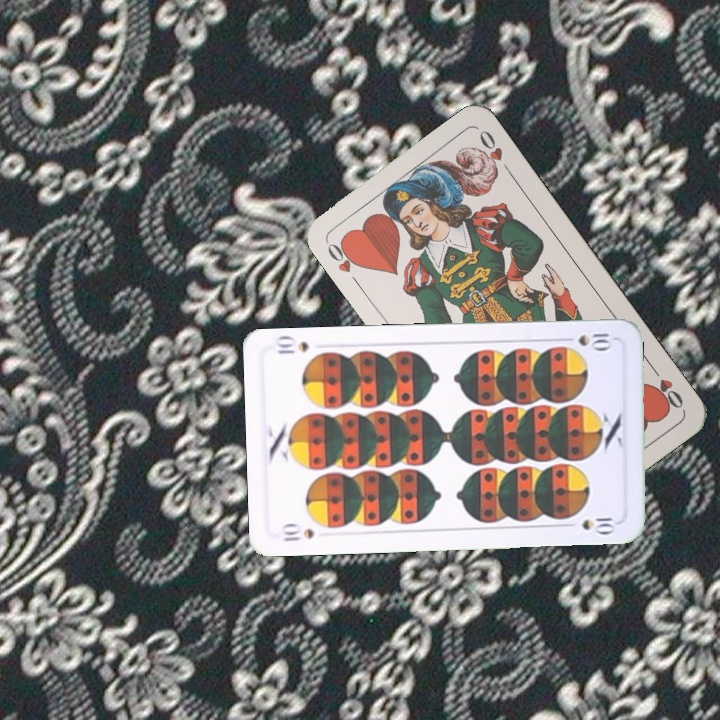HO: (646, 361, 686, 412), (322, 235, 365, 276)
S10: (557, 327, 616, 352), (276, 520, 317, 544)
